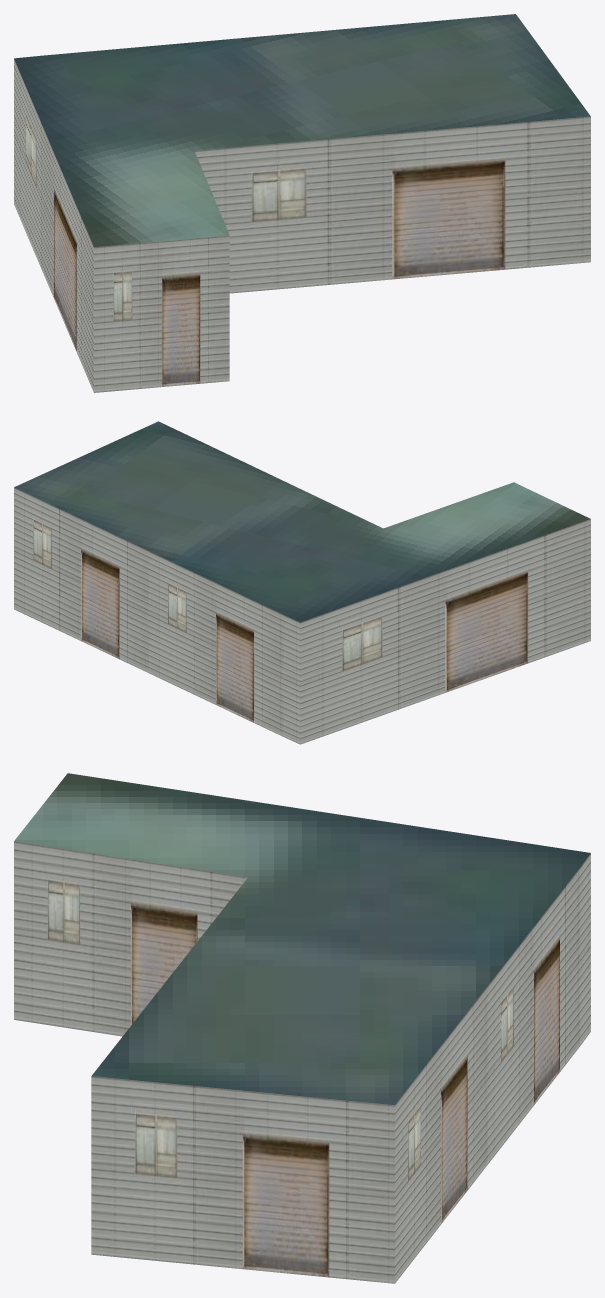
3 renders of one model, top to bottom at view 1: azimuth 30°, elevation 25°; view 2: azimuth 150°, elevation 25°; view 3: azimuth 270°, elevation 25°, orthographic. The views are drawn at different scales.
Parts seen in each view (by area): view 1: SketchUp (×2); view 2: SketchUp (×2); view 3: SketchUp (×2).
Part boxes in pixels (x1,y1,x2,y2): SketchUp (×2): (14,14,590,392); SketchUp (×2): (14,421,590,744); SketchUp (×2): (14,773,590,1283).
Size of what is drawn, in the model's own units: 518 by 381 by 130.
2 materials, 2 textured.
